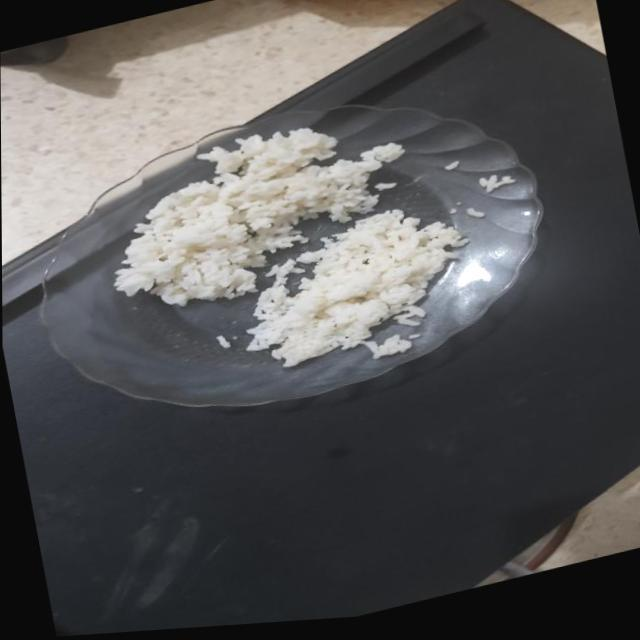nasi_putih: (114, 127, 404, 306), (248, 209, 468, 366)
